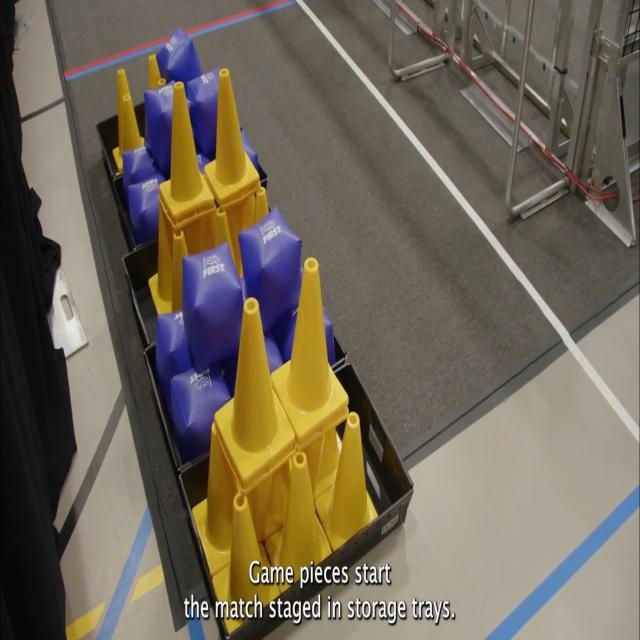frc_cone: (214, 299, 294, 493), (272, 260, 349, 452), (212, 490, 279, 634), (266, 452, 332, 596), (316, 415, 379, 555), (159, 81, 213, 228), (207, 68, 258, 208), (191, 428, 238, 575), (148, 205, 178, 313), (116, 97, 143, 174), (170, 232, 192, 314), (112, 68, 132, 154), (216, 206, 230, 250), (146, 52, 161, 90), (255, 188, 269, 222)
frc_cube: (238, 207, 302, 332), (182, 243, 244, 363), (170, 360, 230, 454), (143, 80, 195, 166), (187, 69, 239, 152), (285, 303, 336, 363), (155, 310, 193, 388), (156, 30, 200, 84), (128, 173, 166, 234), (122, 147, 158, 188), (264, 339, 282, 367)
